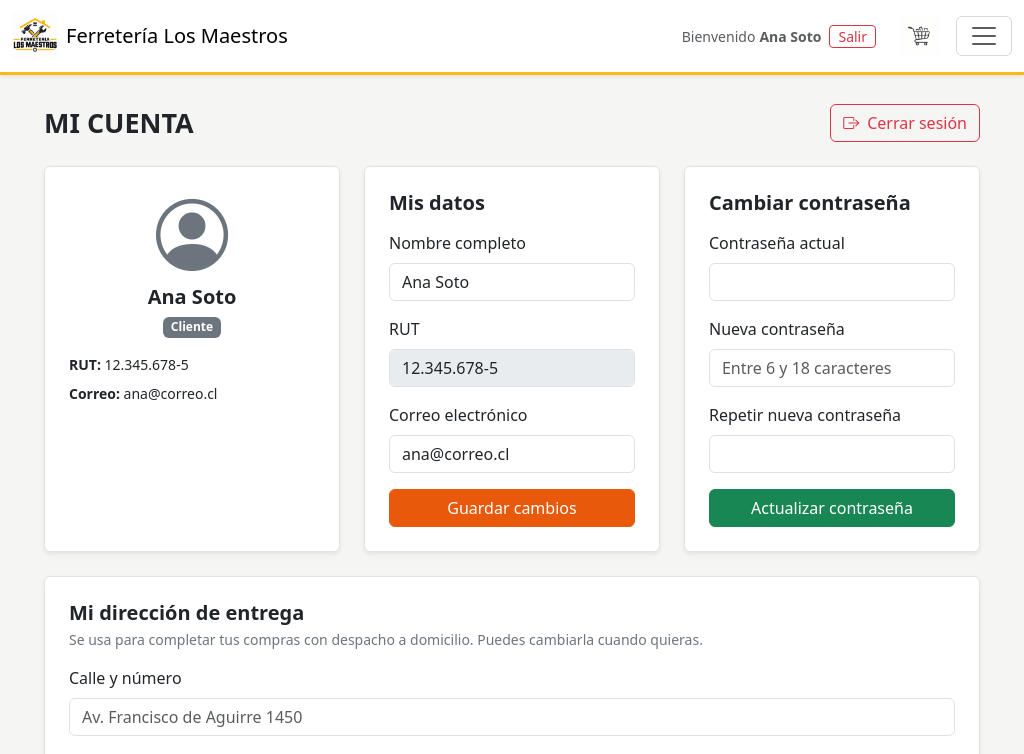
Test: Mi cuenta › cerrar sesión borra la sesión y vuelve al inicio
The image size is (1024, 754).
Click the button "Cerrar sesión": (905,123) [830,104,980,142]
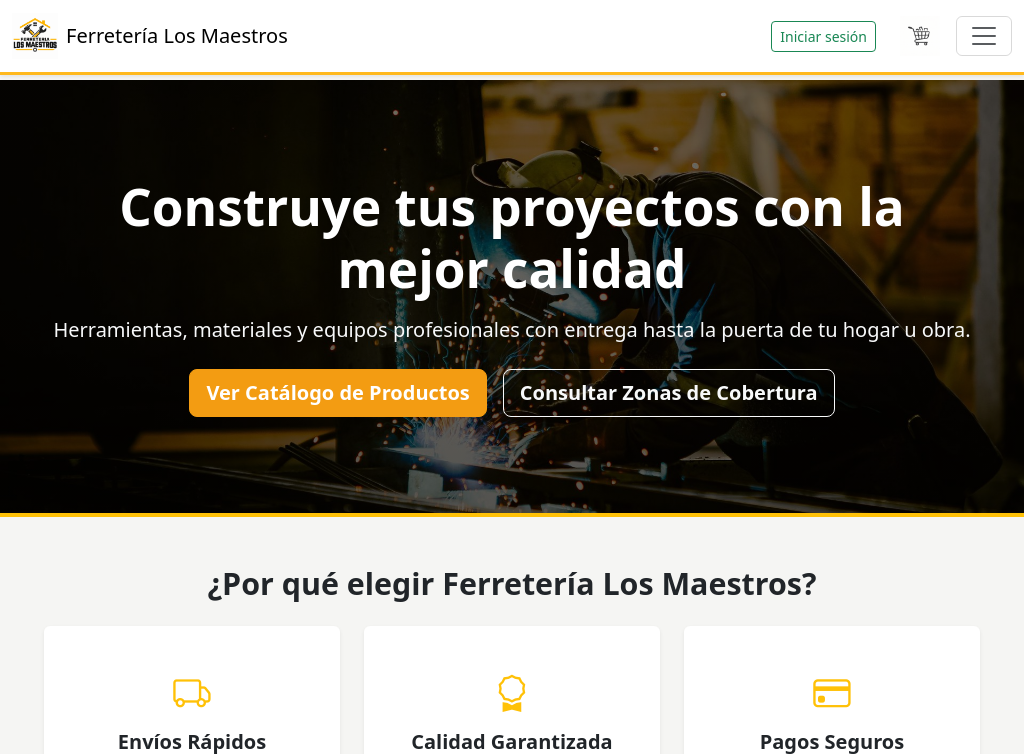
Check: the heading "Construye tus proyectos con la mejor calidad" is shown, box [119,171,905,302]
